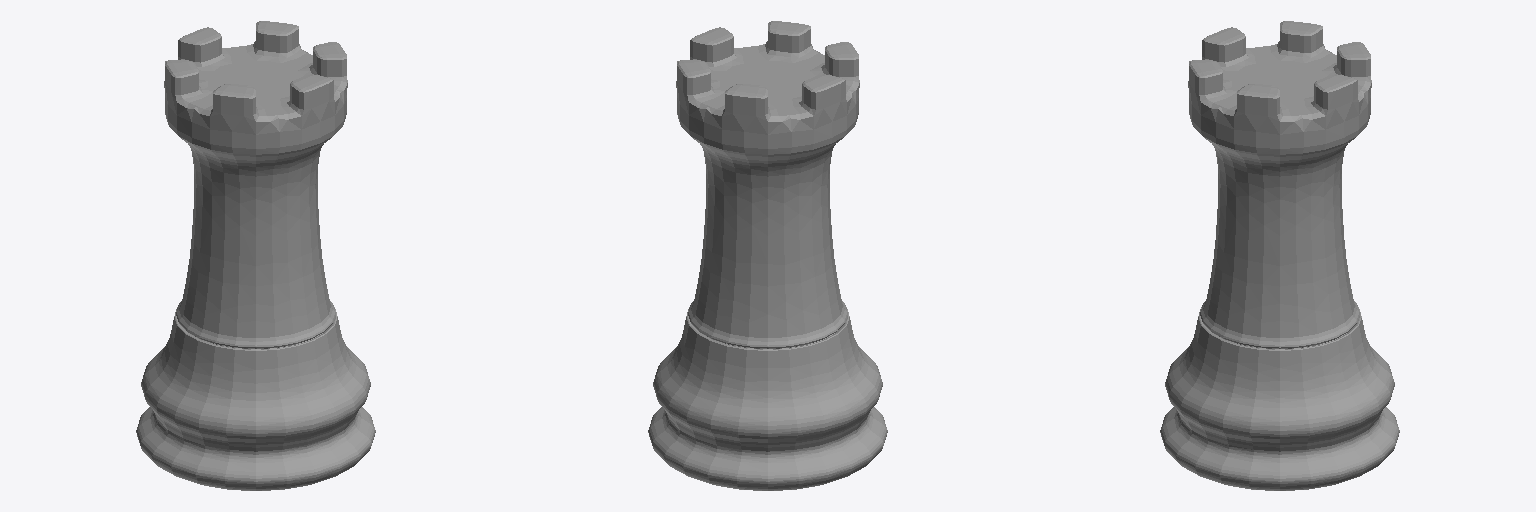
Rendered from RookNewSimplificat.obj.
The picture shows the model from 3 angles: view 1: azimuth 30°, elevation 25°; view 2: azimuth 150°, elevation 25°; view 3: azimuth 270°, elevation 25°; orthographic projection.
Visible parts, largest first — view 1: mesh01.006; view 2: mesh01.006; view 3: mesh01.006.
Part boxes in pixels (left/top/right/bottom): mesh01.006: left=136, top=21, right=375, bottom=490; mesh01.006: left=648, top=21, right=887, bottom=490; mesh01.006: left=1160, top=21, right=1399, bottom=490.
Size of the model in its own units: 1.52 by 2.76 by 1.52.